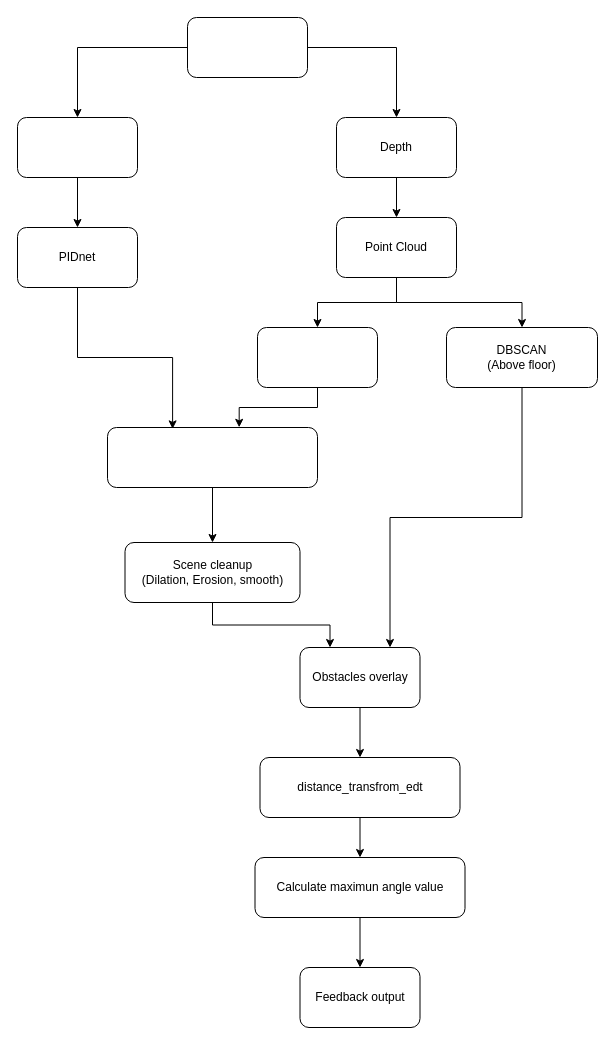
This 615x1045 diagram has some shape labels left out. Each missing label, with the centre of its shape:
"Frame transfromation (Top view)" goes at (212,457).
"Image" goes at (77,147).
"RANSAC (Floor detection)" goes at (317,357).
"RGBD data" goes at (247,47).
